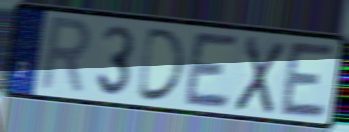3: (95, 24, 137, 98)
D: (134, 25, 188, 104)
E: (278, 39, 337, 122), (182, 30, 241, 112)
R: (36, 14, 95, 98)
X: (232, 33, 288, 117)
